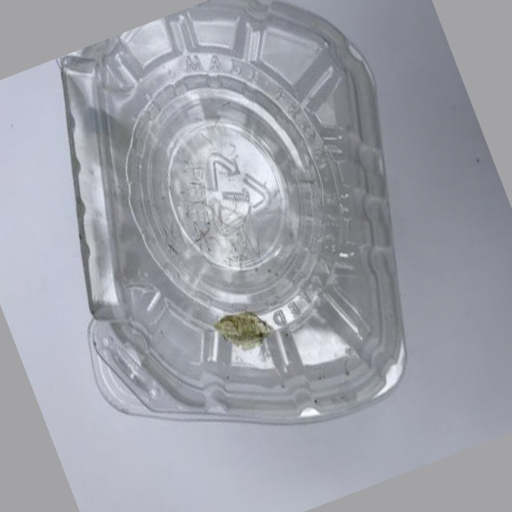Plastic_4: (57, 2, 407, 430)
